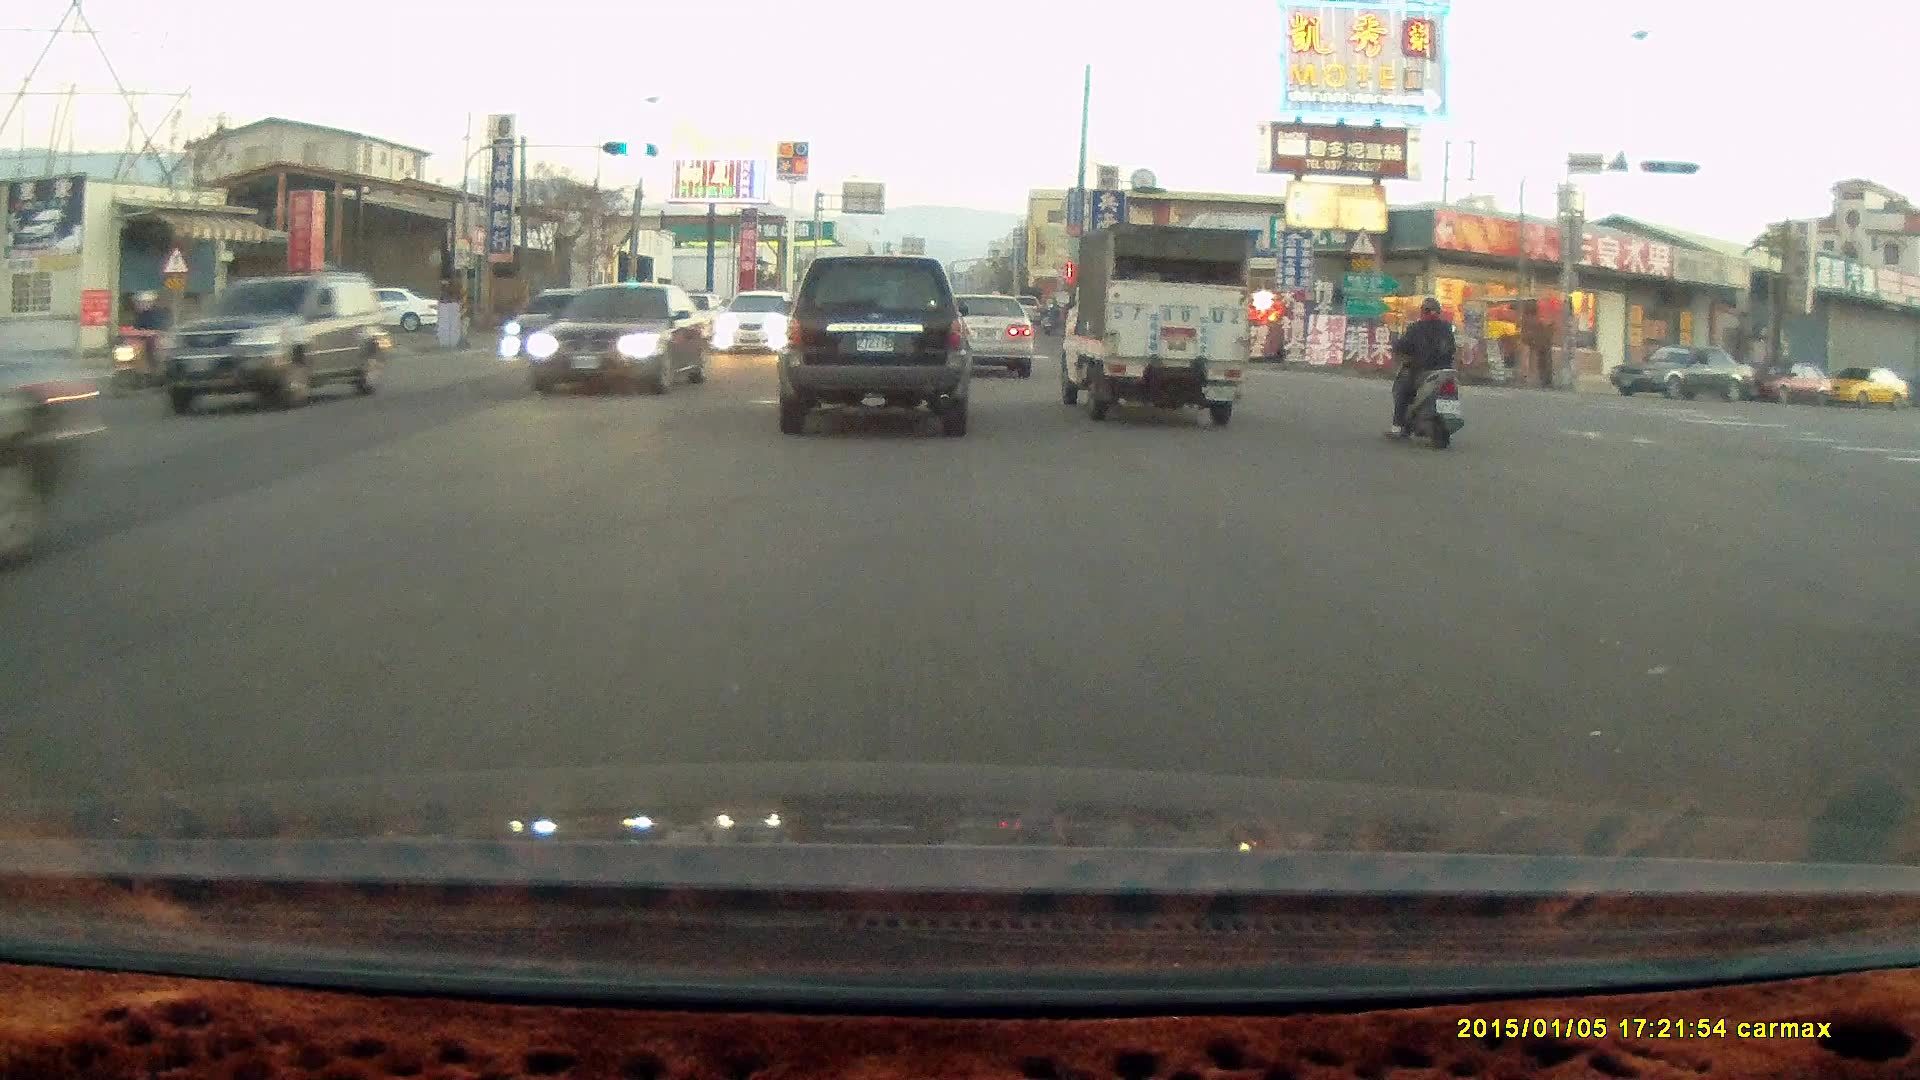rider: (1383, 293, 1464, 446), (101, 285, 190, 392)
vehicle: (1052, 218, 1254, 424), (775, 252, 971, 436), (139, 275, 394, 410), (525, 282, 715, 395), (925, 289, 1034, 379), (1607, 344, 1758, 404), (938, 293, 1037, 380), (505, 280, 610, 355), (327, 285, 444, 334), (713, 292, 796, 359), (1744, 360, 1836, 406), (1821, 366, 1910, 409)
